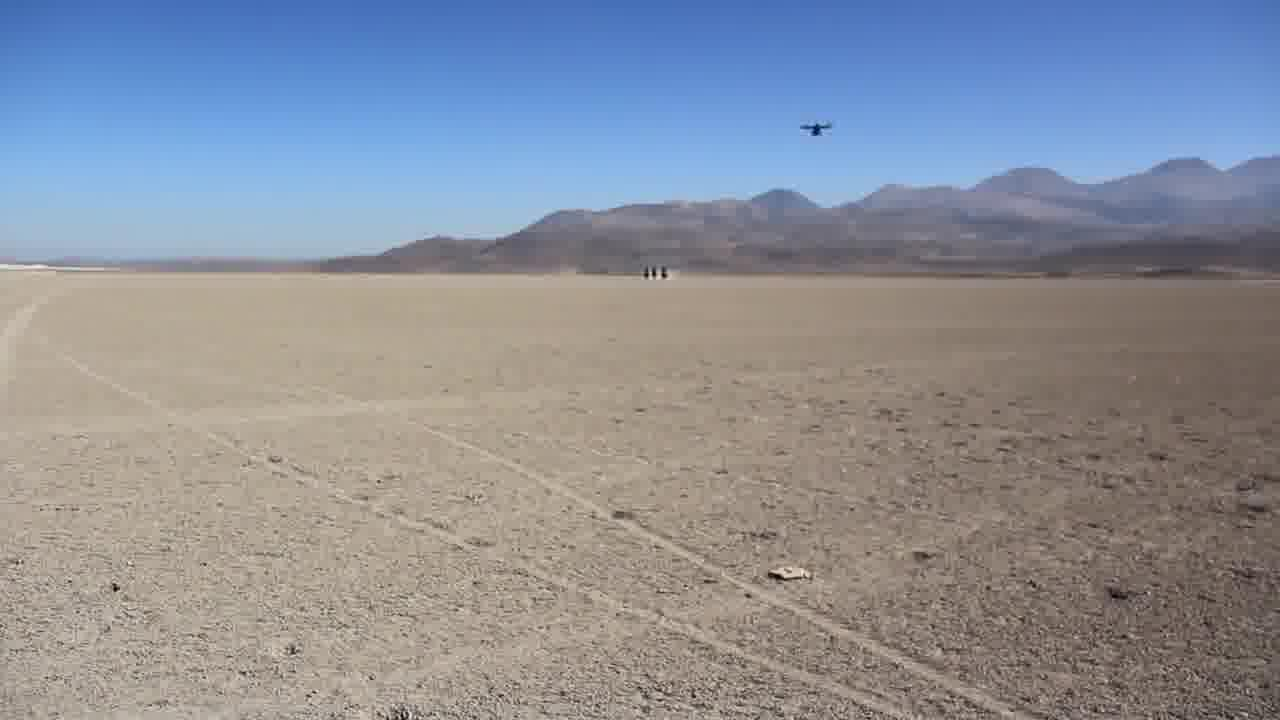drone: (794, 116, 834, 142)
